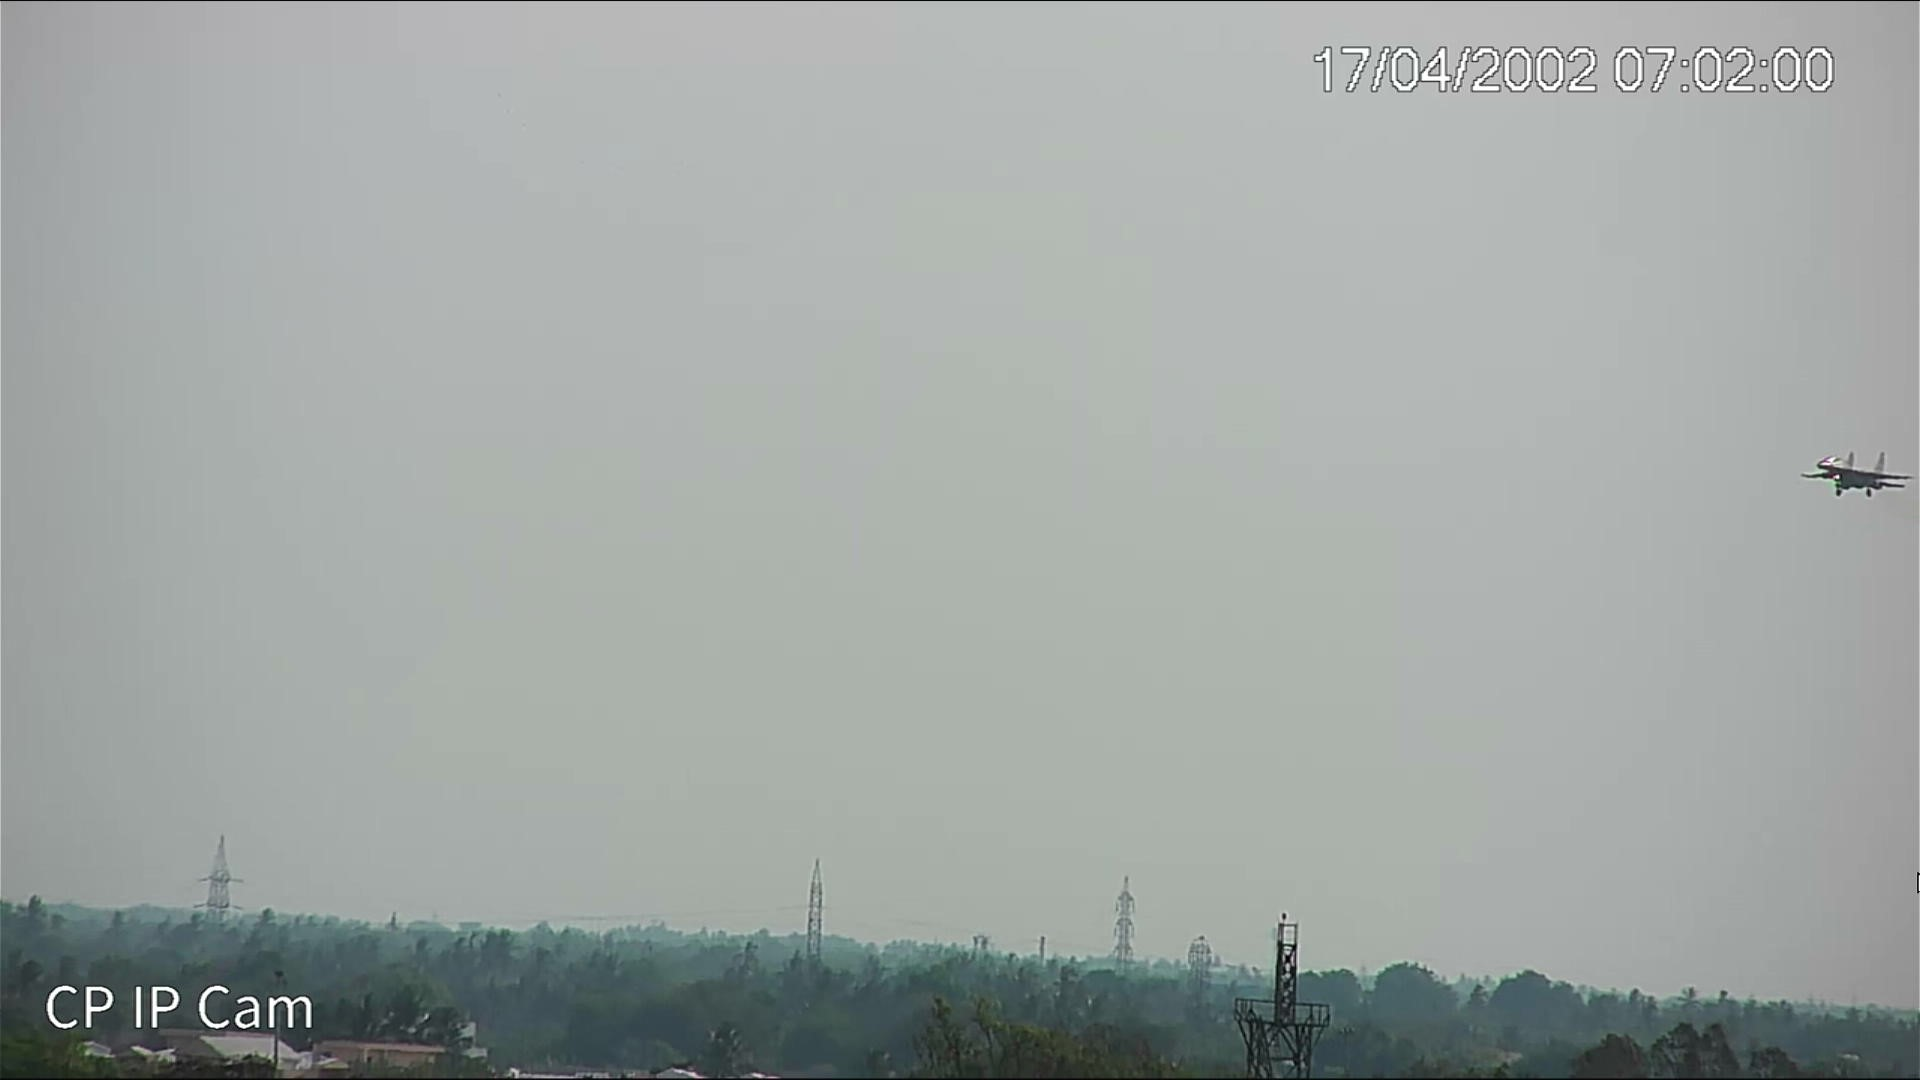SU_30: (1800, 452, 1917, 498)
